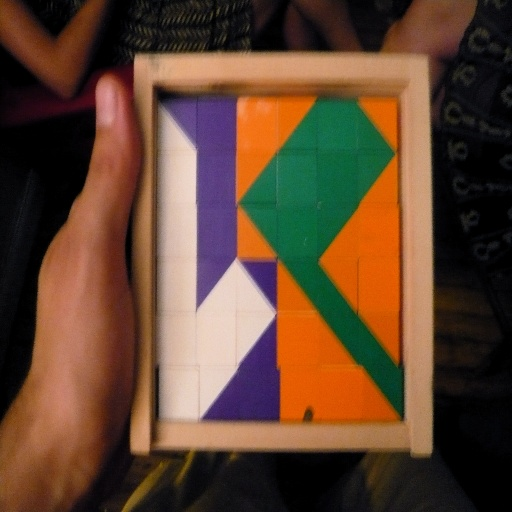hand: (7, 94, 146, 494)
